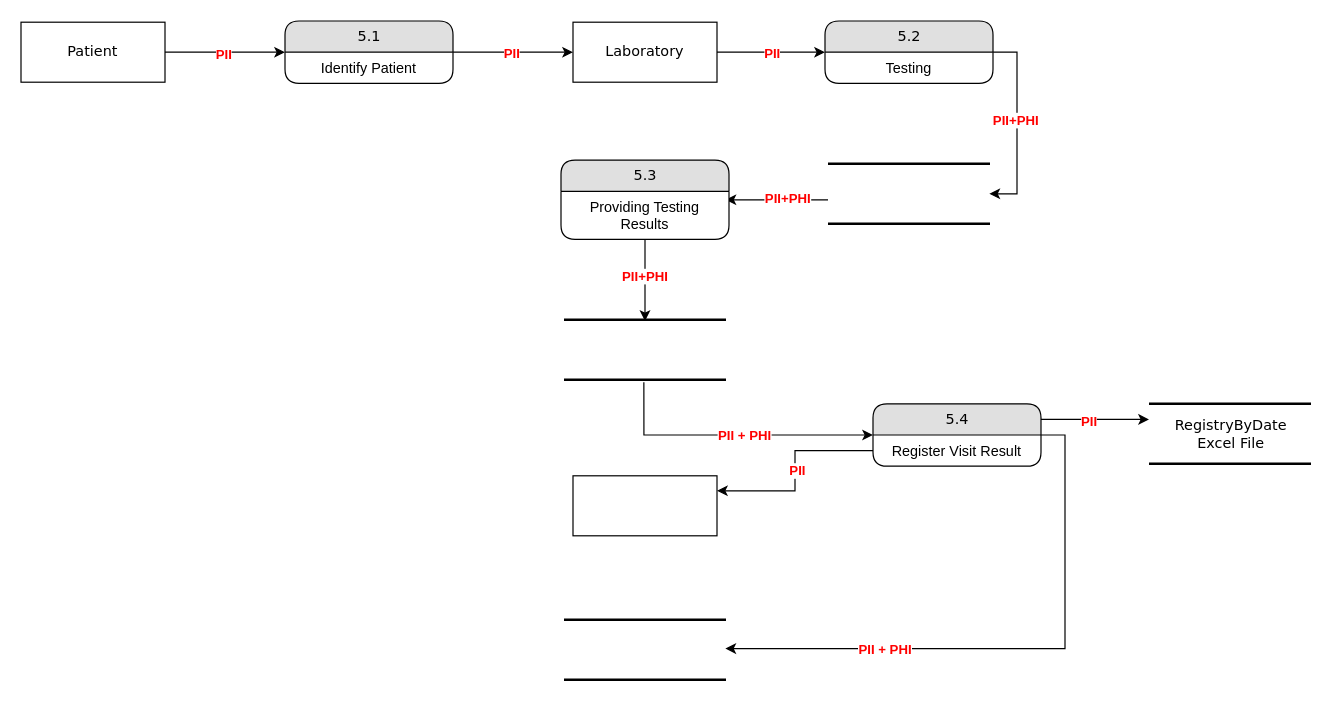
Some shapes in this 1333 by 702 pixel diagram are drawn without their labels. Each missing label, with the centre of its shape:
E-mail: point (644, 349)
Laboratory Data System: point (908, 193)
Patient data file: point (644, 649)
Reception: point (644, 505)
